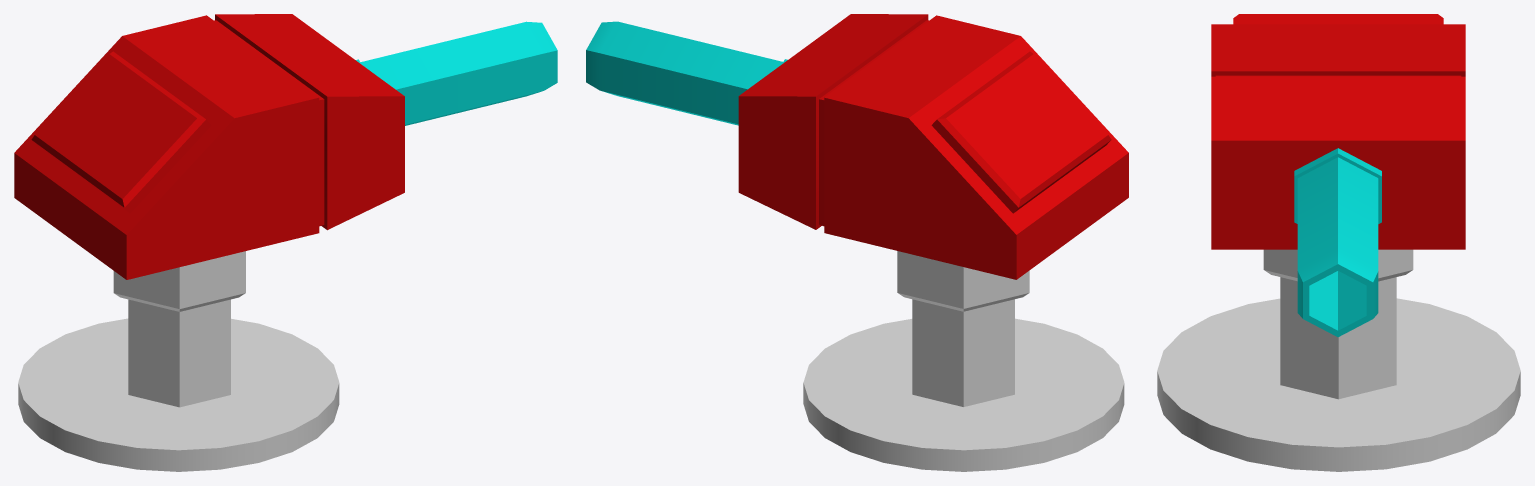
File: Turret_1.fbx
The picture shows the model from 3 angles, left to right: view 1: azimuth 30°, elevation 25°; view 2: azimuth 150°, elevation 25°; view 3: azimuth 270°, elevation 25°; orthographic projection. The views are drawn at different scales.
Visible parts, largest first — view 1: Turret_var1_mainbody, Turret_var1_stand, Turret_var1_bridge; view 2: Turret_var1_mainbody, Turret_var1_stand, Turret_var1_bridge; view 3: Turret_var1_mainbody, Turret_var1_stand, Turret_var1_bridge.
Boxes of the visible parts, x1,y1,x2,y2 form: Turret_var1_mainbody: (14,14,557,279); Turret_var1_stand: (18,318,339,471); Turret_var1_bridge: (113,251,245,407); Turret_var1_mainbody: (586,14,1128,279); Turret_var1_stand: (803,318,1124,471); Turret_var1_bridge: (897,251,1029,406); Turret_var1_mainbody: (1211,14,1465,337); Turret_var1_stand: (1157,298,1520,471); Turret_var1_bridge: (1263,249,1413,399).
Size of the model in its own units: 361 by 225 by 200.
